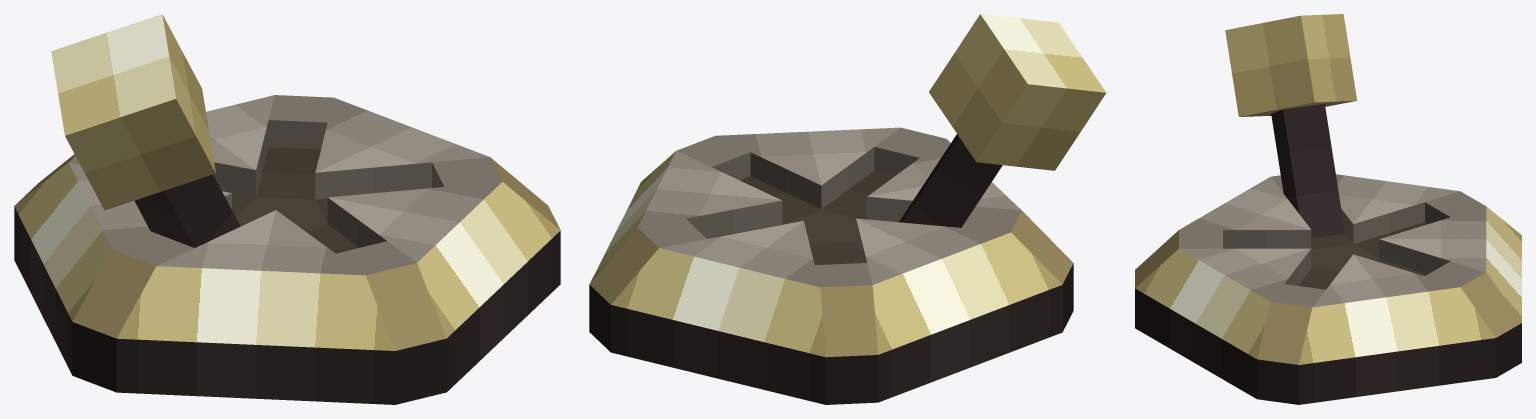
File: lever_6state_2.obj
3 renders of one model, left to right at view 1: azimuth 30°, elevation 25°; view 2: azimuth 150°, elevation 25°; view 3: azimuth 270°, elevation 25°, orthographic. The views are drawn at different scales.
Parts seen in each view (by area): view 1: 6-STATE_Circle.003, LEVER_Cube.049; view 2: 6-STATE_Circle.003, LEVER_Cube.049; view 3: 6-STATE_Circle.003, LEVER_Cube.049.
Boxes of the visible parts, x1,y1,x2,y2 form: 6-STATE_Circle.003: (14,95,560,404); LEVER_Cube.049: (51,14,240,247); 6-STATE_Circle.003: (589,127,1073,404); LEVER_Cube.049: (899,14,1106,227); 6-STATE_Circle.003: (1135,174,1521,404); LEVER_Cube.049: (1225,14,1356,237).
Bounding box in the file's own units: 0.6122 × 0.3924 × 0.5493.
